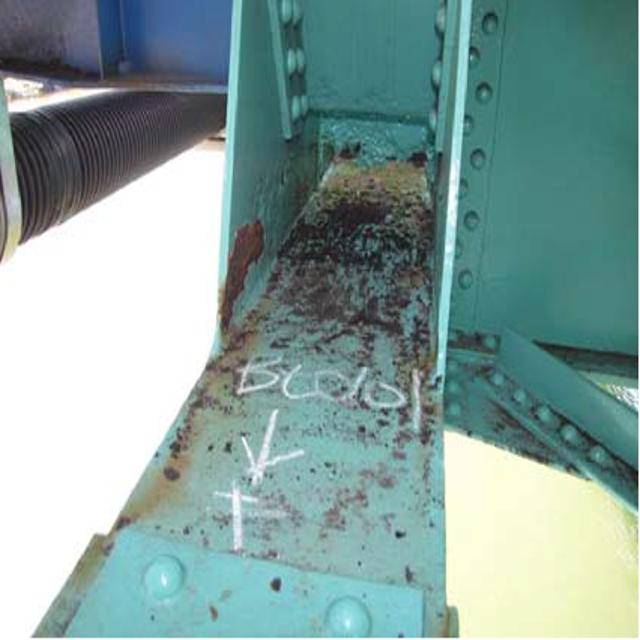corrosion: (222, 117, 437, 484)
